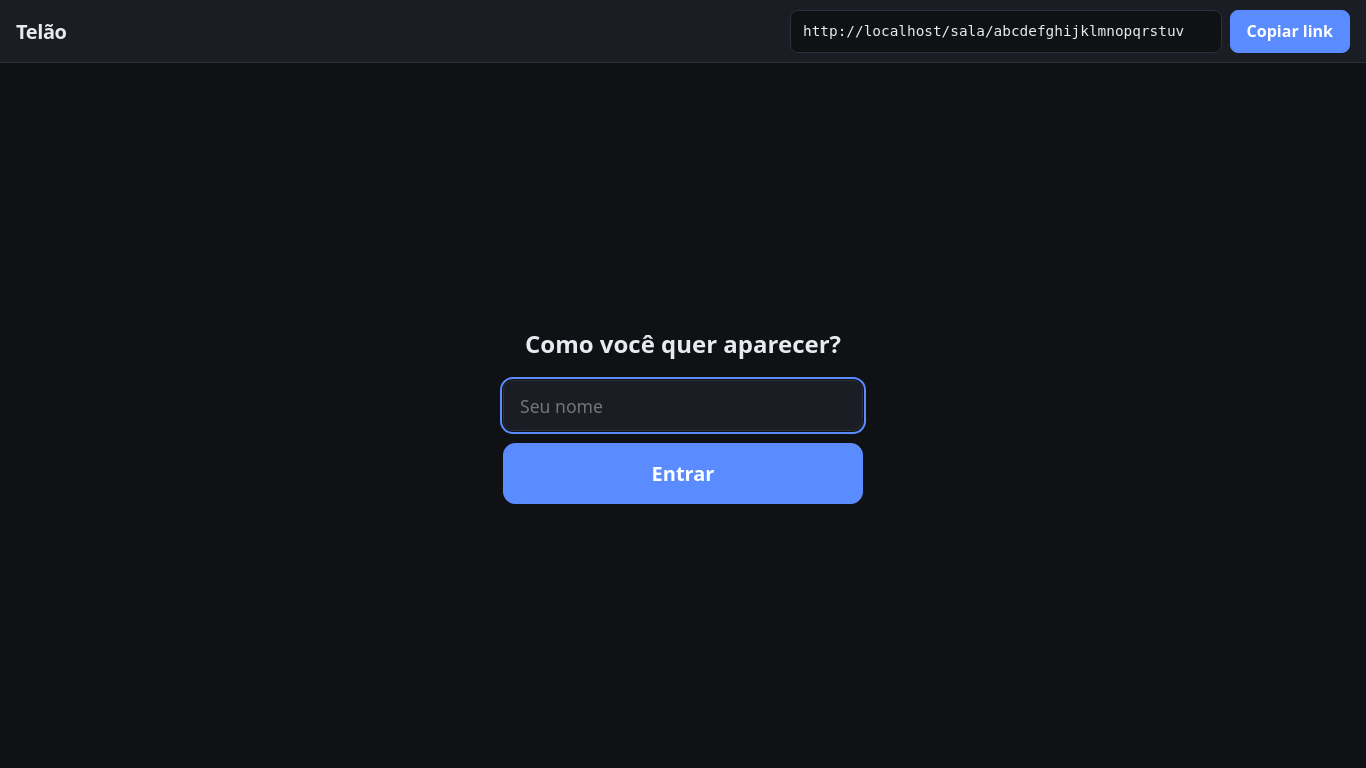
Test: Avisos como notificações flutuantes › avisos de tipos diferentes ficam empilhados na área de avisos, cada um com fechar
The width and height of the screenshot is (1366, 768).
In the field labelled "Seu nome": [683, 406] box [503,380,863,432], type "Ana"
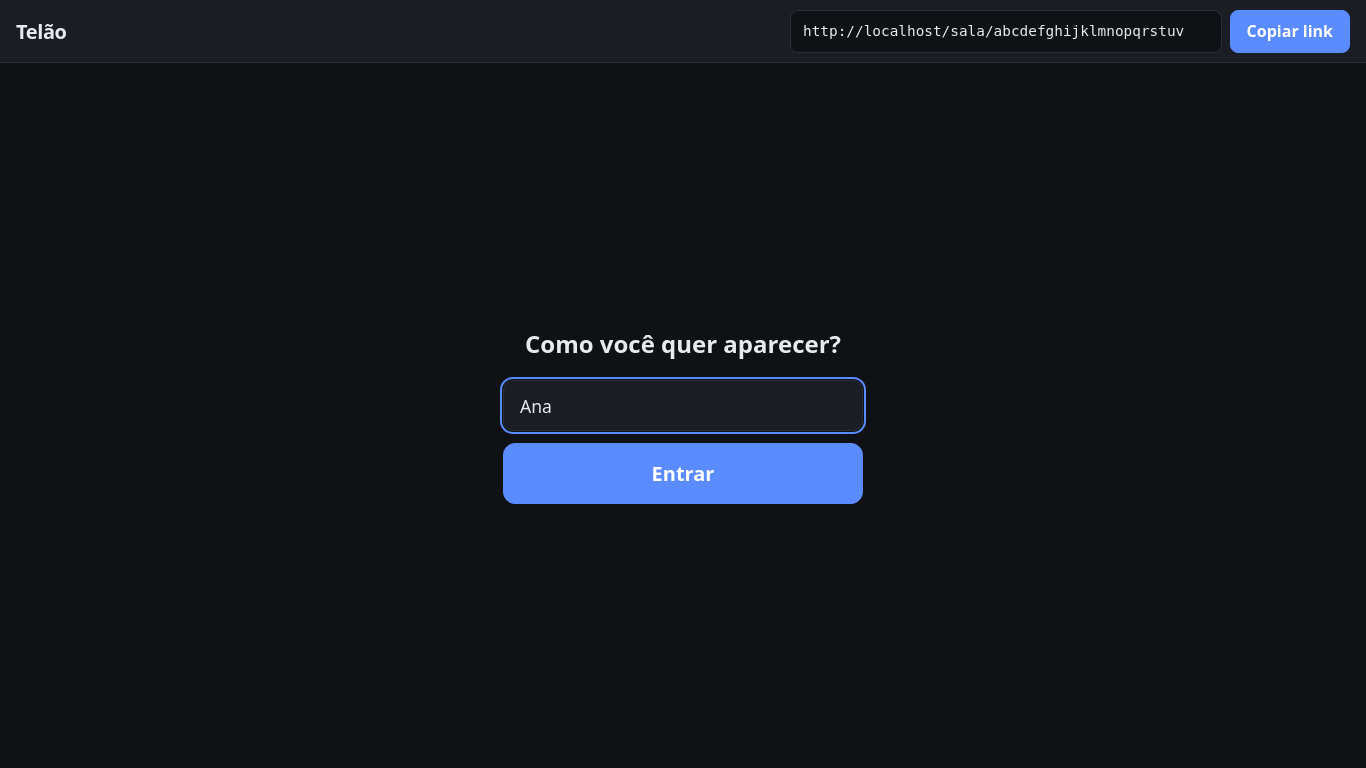
Click the button "Entrar": [683, 474] box [503,444,863,504]
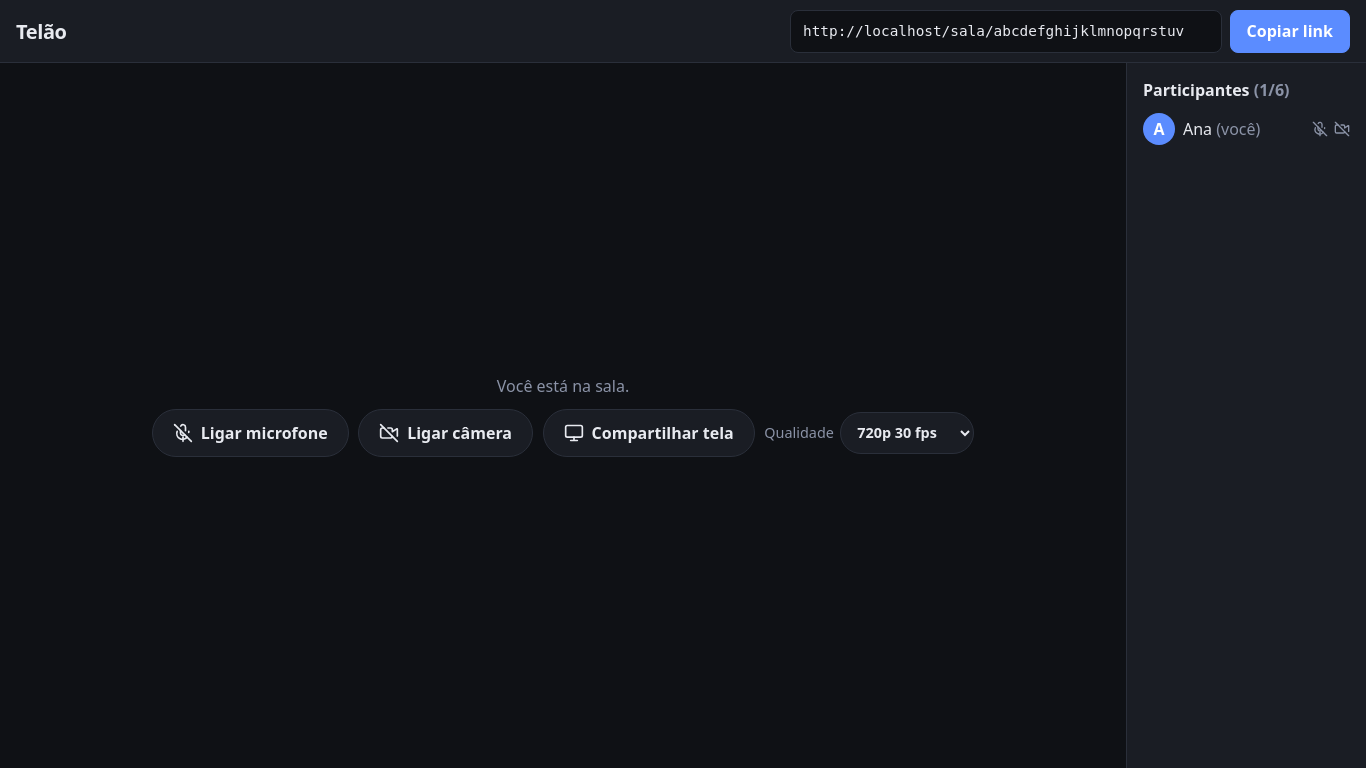
Now the text "Você está na sala." is shown, box [497,375,629,397]
Click the button "Ligar microfone": [250, 433] box [152,409,349,457]
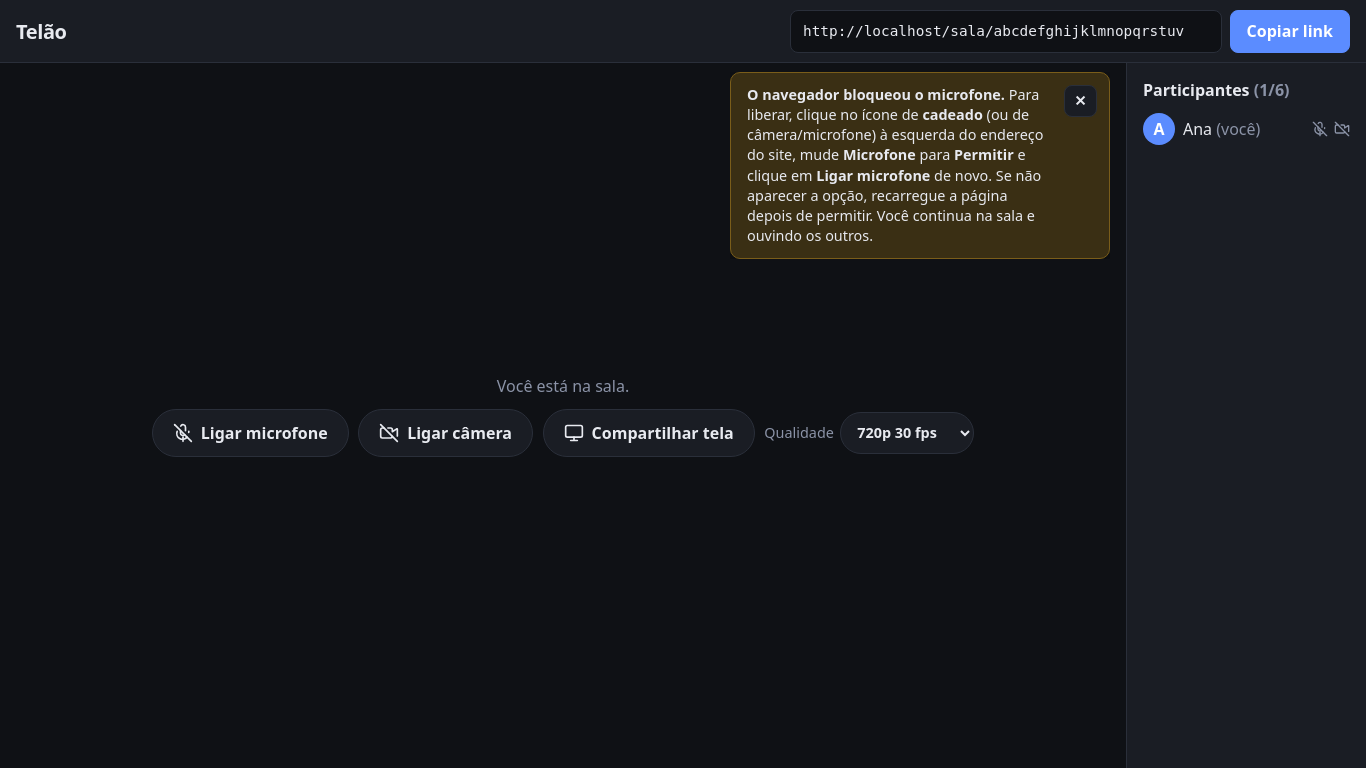
Click the button "Compartilhar tela": [649, 433] box [543,409,755,457]
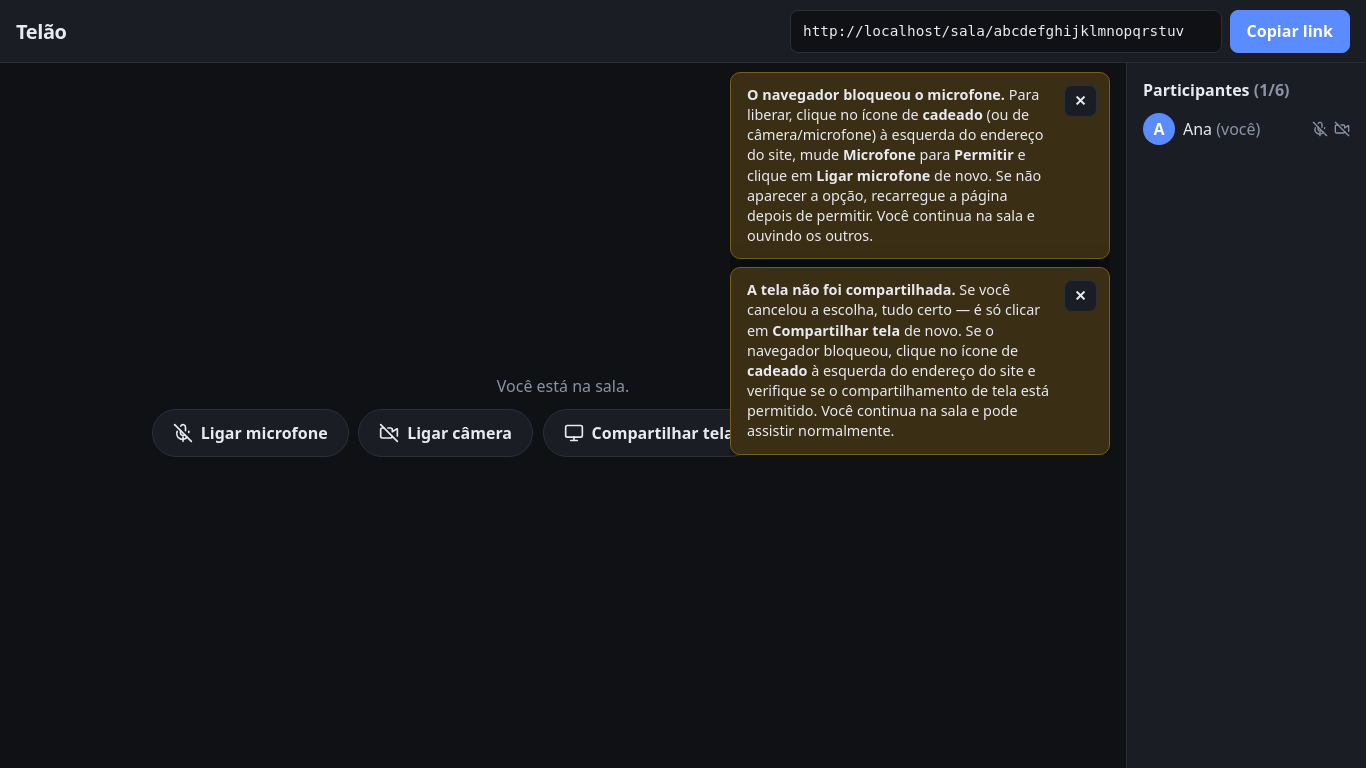
Now the message that starts with "O navegador bloqueou o microfone." is shown, box [747,85,1005,104]
Now the number of messages is 2, box [730,72,1110,259]; [730,267,1110,454]
Now the message that starts with "A tela não foi compartilhada." is shown, box [747,280,956,299]
Click the button named "Fechar aviso": [1080, 101] box [1064,85,1097,117]
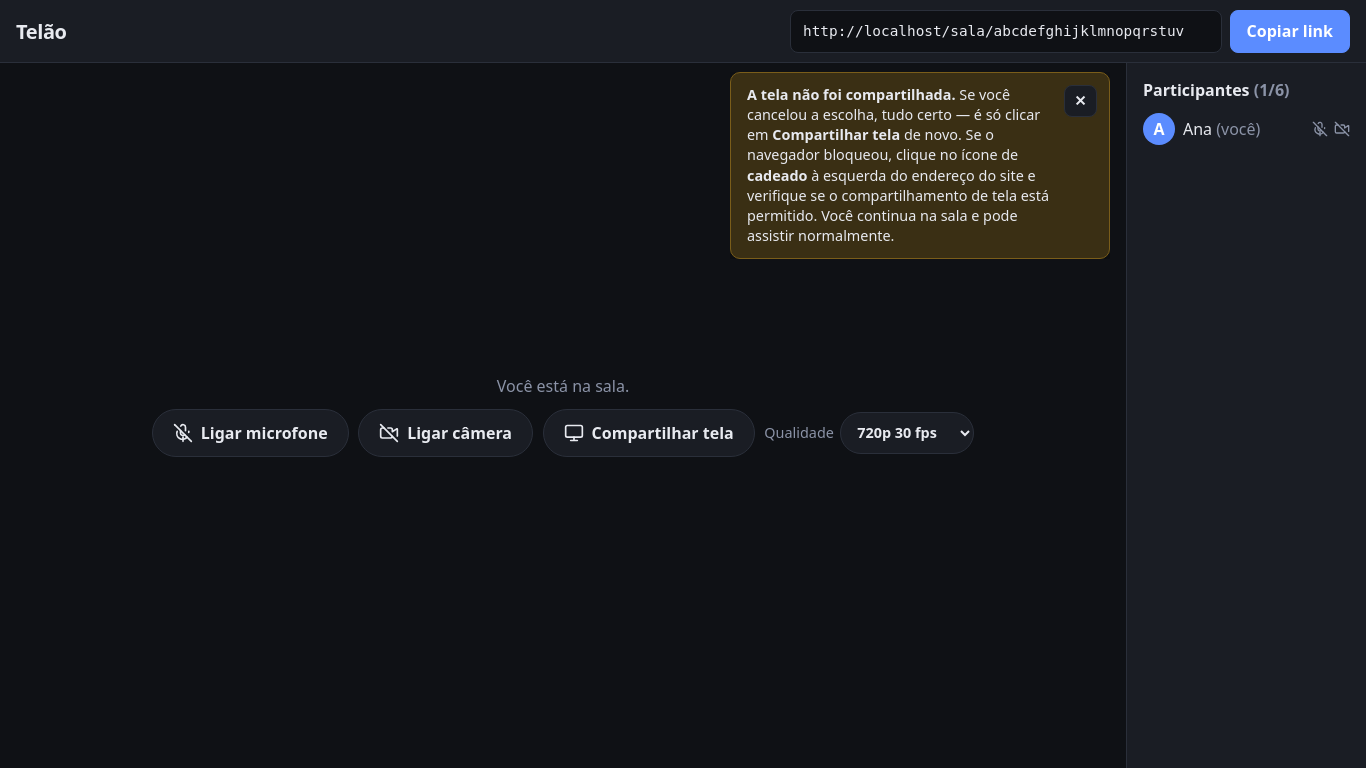
Now the message shows "A tela não foi compartilhada.", box [747,85,956,104]
Now the number of messages is 1, box [730,72,1110,259]
